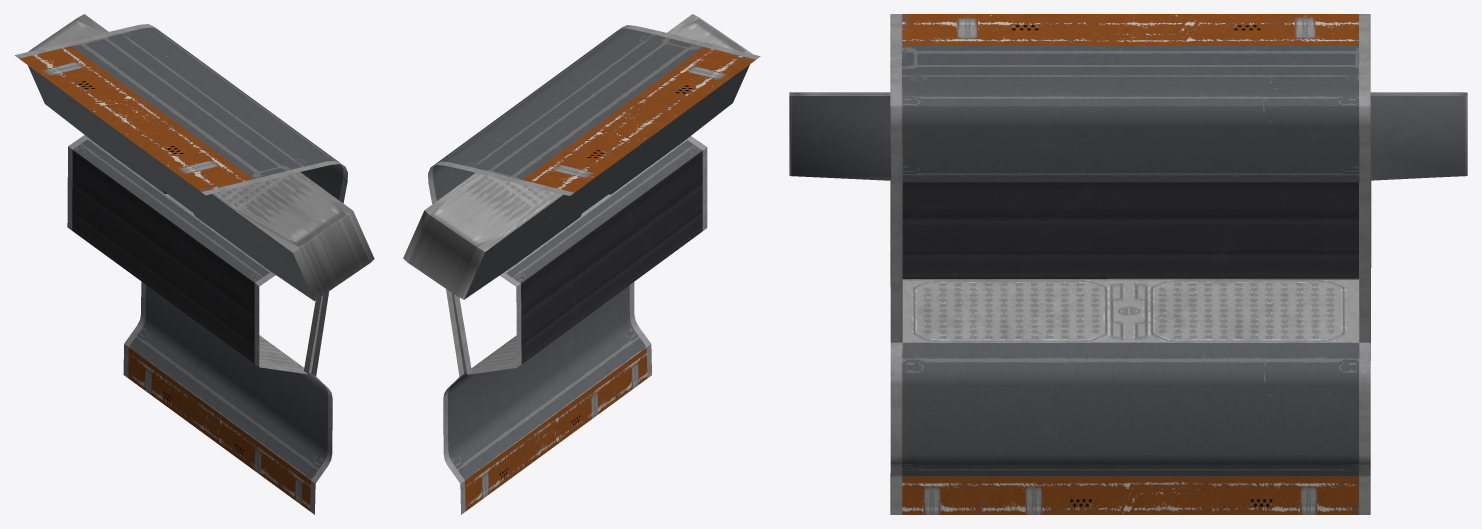
The model's file is wall_300_open.FBX.
3 views of the same model, side by side, from view 1: azimuth 30°, elevation 25°; view 2: azimuth 150°, elevation 25°; view 3: azimuth 270°, elevation 25° (orthographic). The views are drawn at different scales.
Parts seen in each view (by area): view 1: Object014; view 2: Object014; view 3: Object014.
Part boxes in pixels (x1=…): Object014: x1=15, y1=14, x2=374, y2=514; Object014: x1=403, y1=14, x2=760, y2=514; Object014: x1=789, y1=14, x2=1467, y2=514.
Bounding box in the file's own units: 129 × 300 × 424.
1 material, 1 textured.
